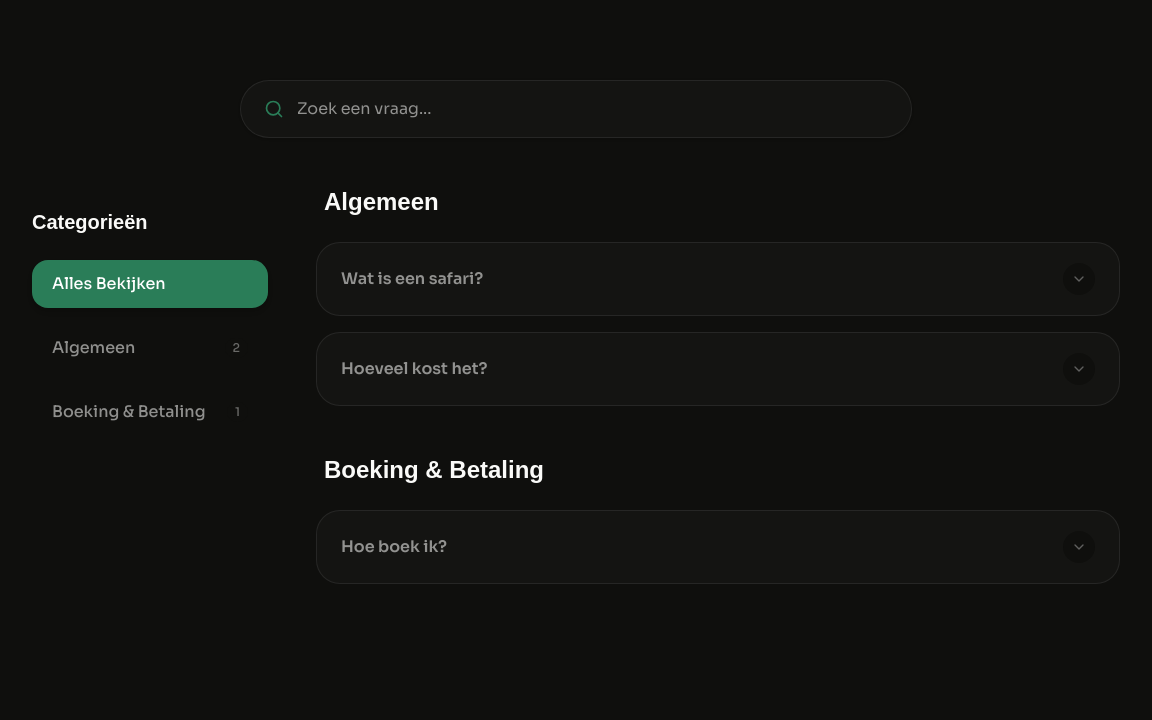
Test: FaqClient › empty search shows "Geen resultaten" message
In the field with placeholder "Zoek een vraag...": {"x": 576, "y": 109} [240, 80, 912, 138], type "xyznonexistent"
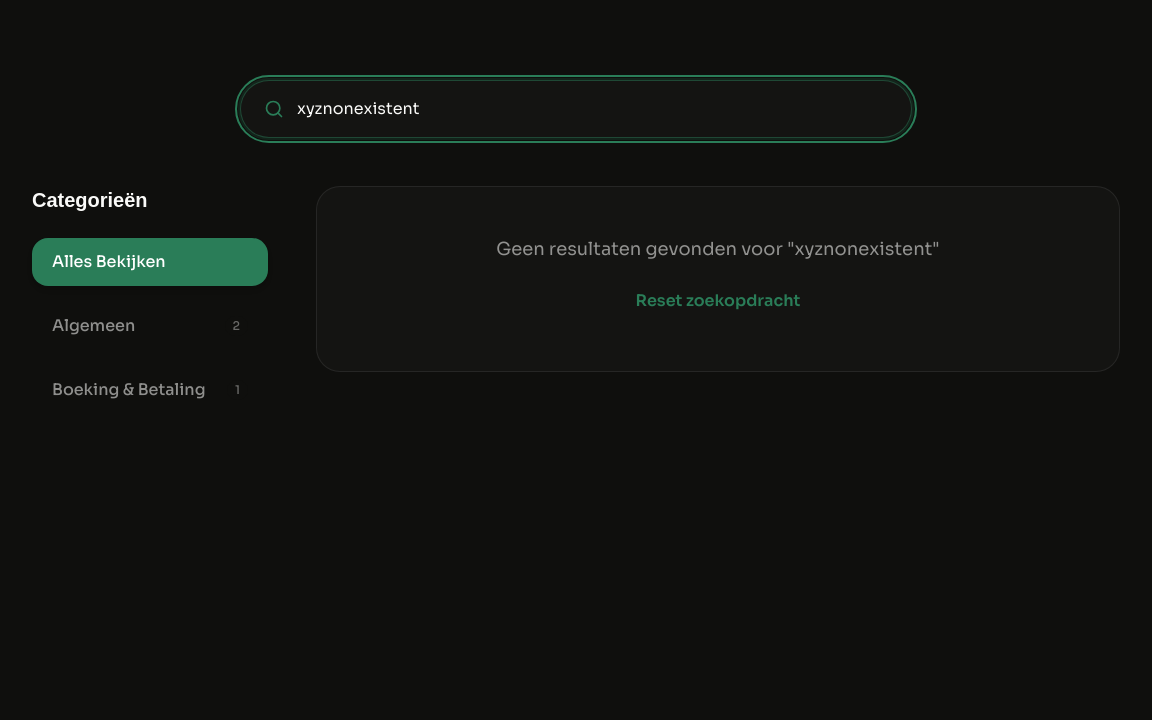
Check: the text "Geen resultaten gevonden voor \"xyznonexistent\"" is shown, box [496, 238, 940, 260]
